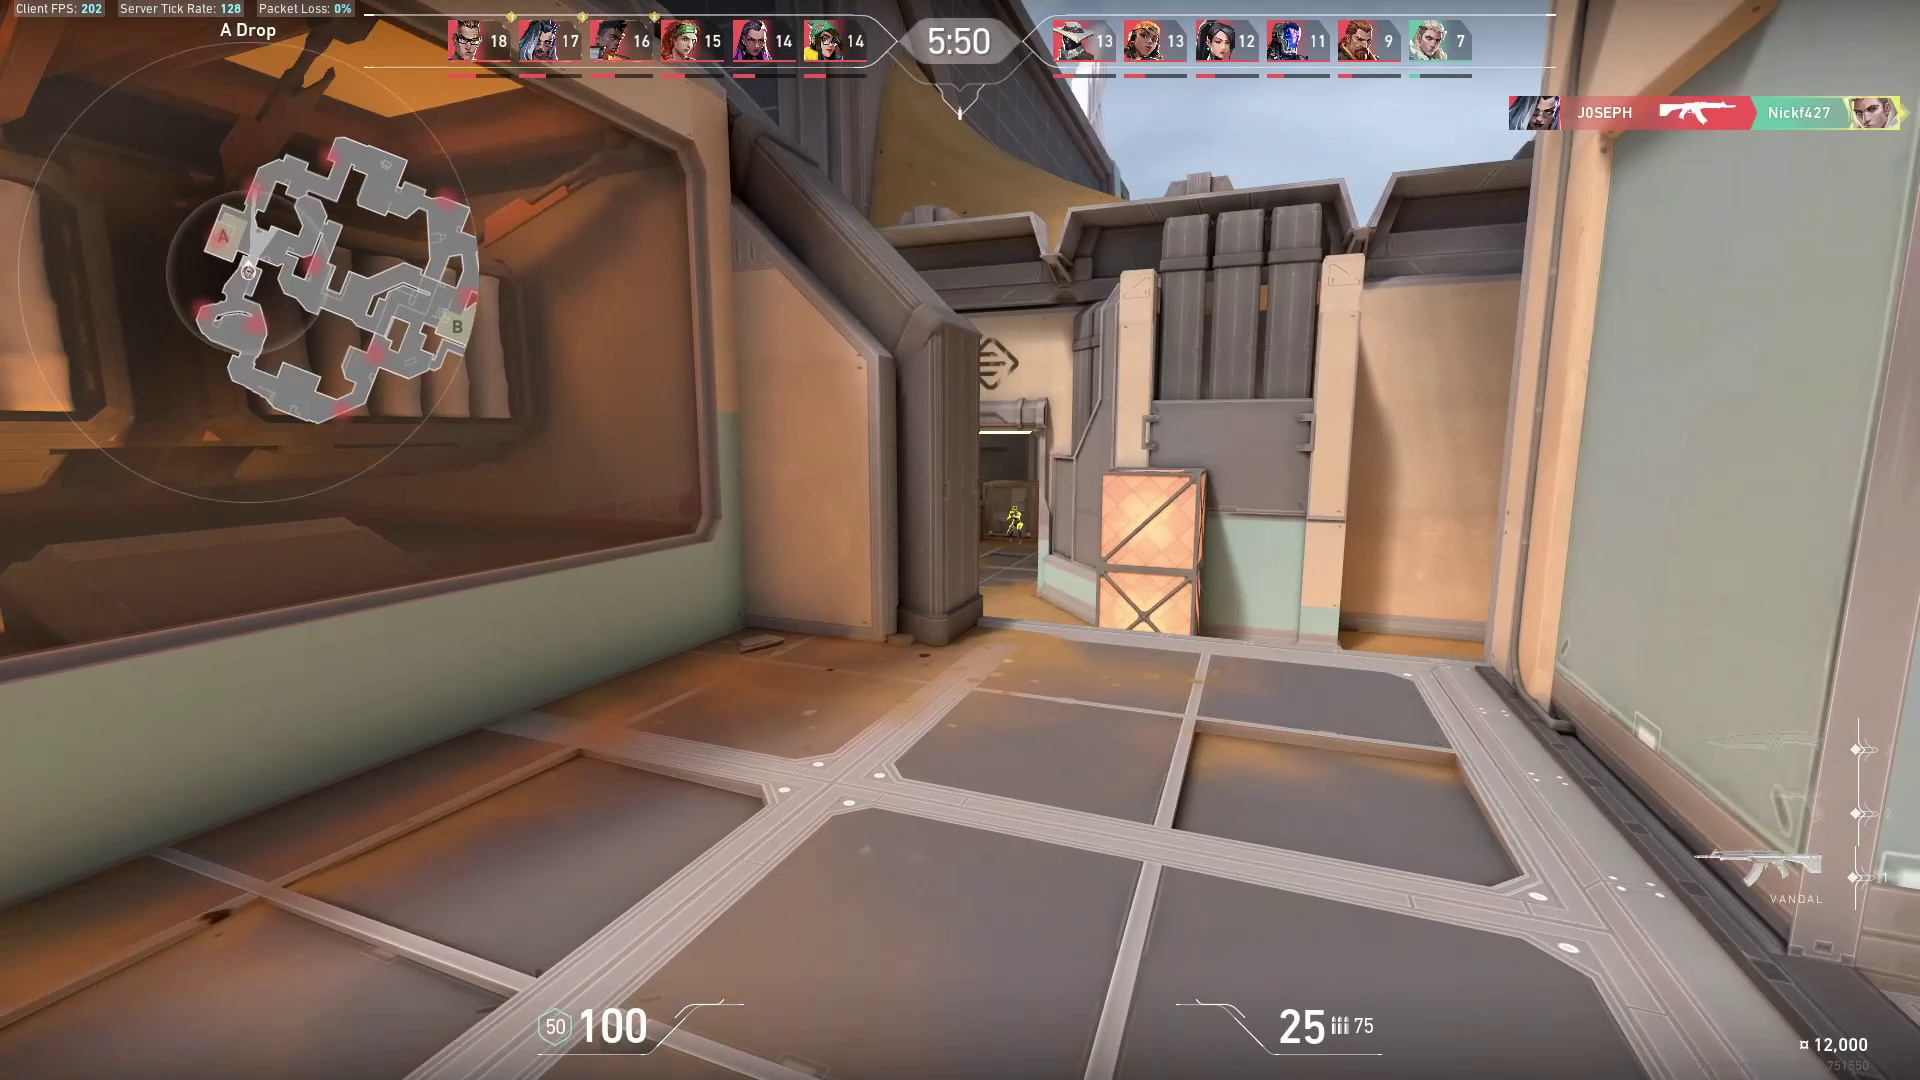enemy_body: (1002, 512, 1029, 549)
enemy_head: (1009, 502, 1020, 515)
